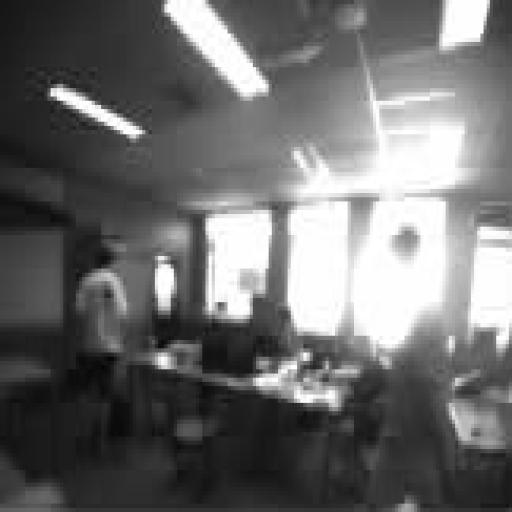human: (367, 307, 455, 507), (76, 244, 129, 449), (279, 307, 303, 356)
